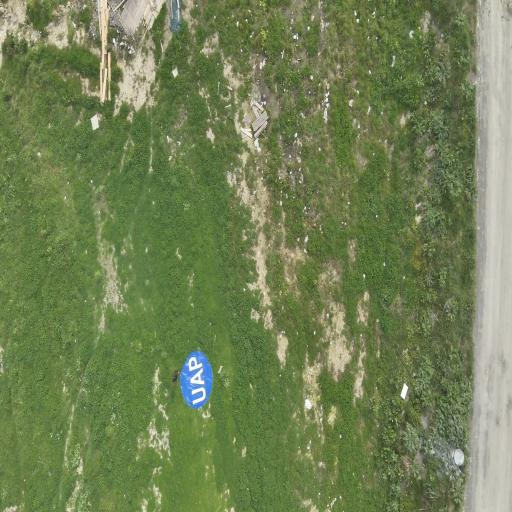uap: (180, 351, 213, 408)
